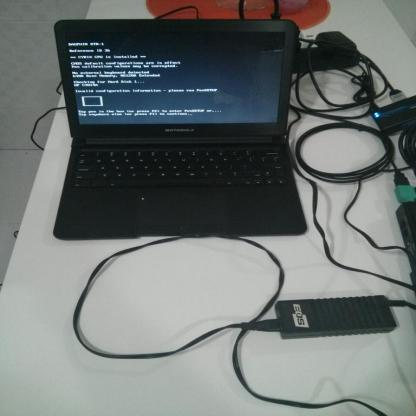board: (56, 19, 304, 240)
